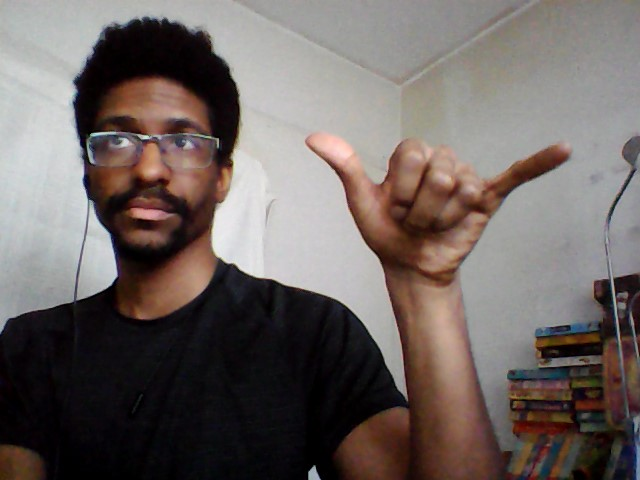y: (302, 125, 581, 286)
